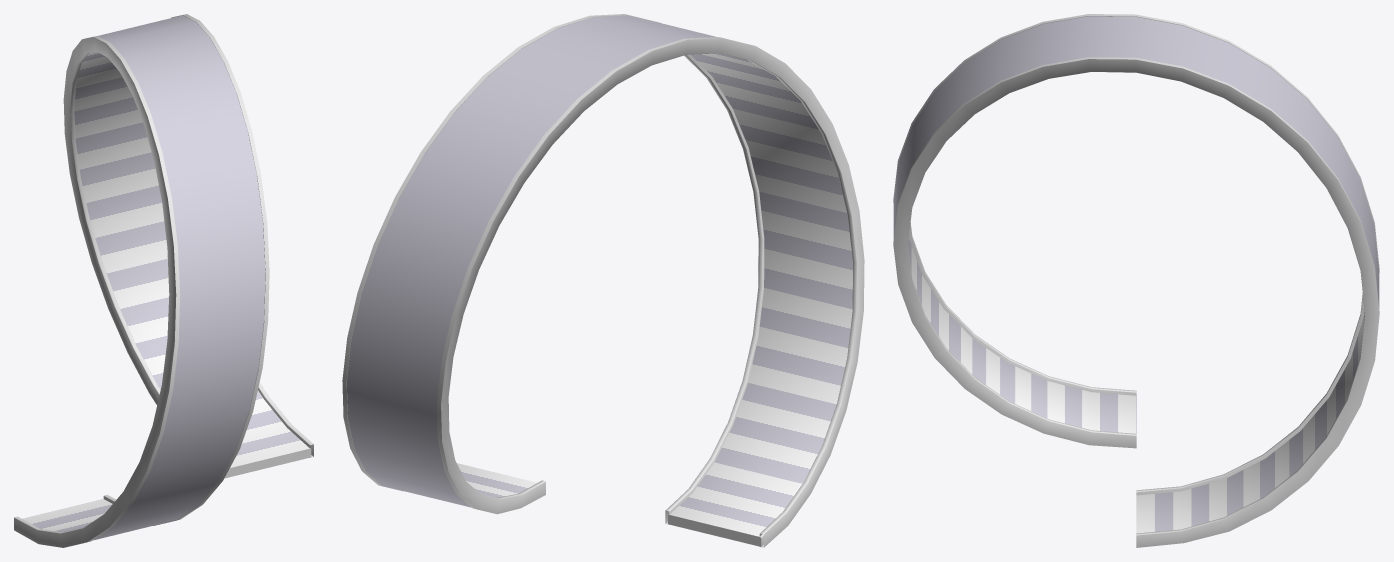
The model's file is Platform_Spiral.fbx.
3 renders of one model, left to right at view 1: azimuth 30°, elevation 25°; view 2: azimuth 150°, elevation 25°; view 3: azimuth 270°, elevation 25°, orthographic. The views are drawn at different scales.
Visible parts, largest first — view 1: Platform_Spiral; view 2: Platform_Spiral; view 3: Platform_Spiral.
Boxes of the visible parts, x1,y1,x2,y2 form: Platform_Spiral: (14, 14, 313, 547); Platform_Spiral: (342, 14, 864, 547); Platform_Spiral: (893, 14, 1379, 547).
Bounding box in the file's own units: 3082 × 4373 × 4380.
